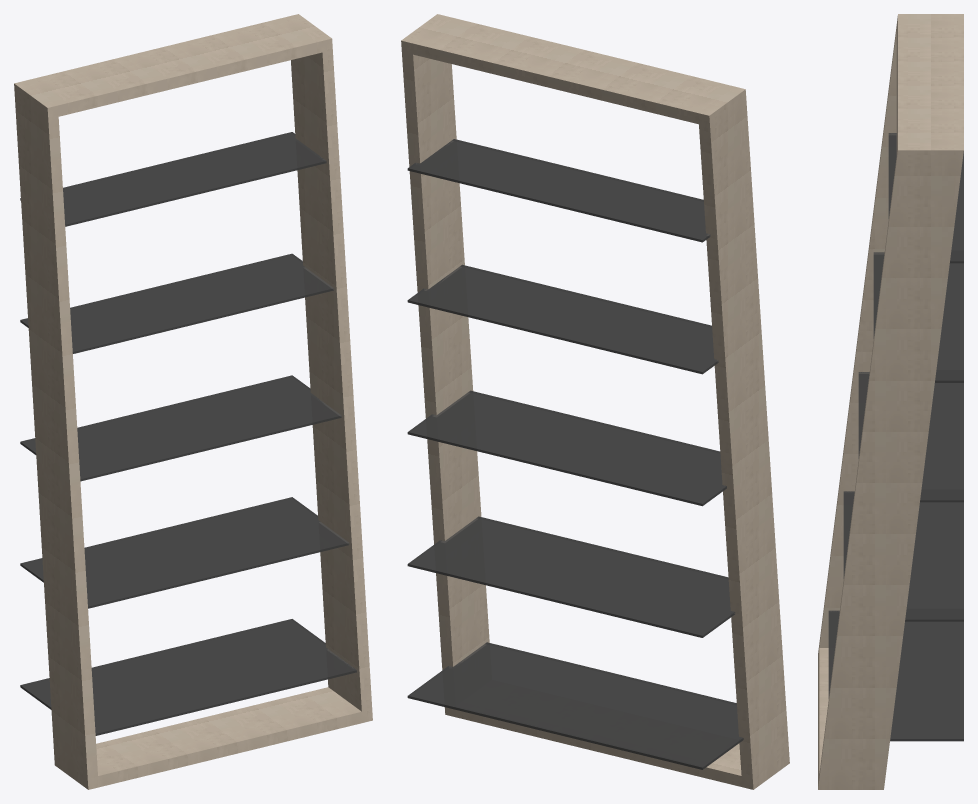
The model's file is cabinet.obj.
The picture shows the model from 3 angles, left to right: view 1: azimuth 30°, elevation 25°; view 2: azimuth 150°, elevation 25°; view 3: azimuth 270°, elevation 25°; orthographic projection. The views are drawn at different scales.
Parts seen in each view (by area): view 1: Mesh1 frame1 Eileen_Shelf_by_Smart_Furniture1 Model, Mesh6 shelf5_1 Eileen_Shelf_by_Smart_Furniture1 Model, Mesh5 shelf4_1 Eileen_Shelf_by_Smart_Furniture1 Model, Mesh4 shelf3_1 Eileen_Shelf_by_Smart_Furniture1 Model, Mesh3 shelf2_1 Eileen_Shelf_by_Smart_Furniture1 Model, Mesh2 shelf1_1 Eileen_Shelf_by_Smart_Furniture1 Model; view 2: Mesh1 frame1 Eileen_Shelf_by_Smart_Furniture1 Model, Mesh6 shelf5_1 Eileen_Shelf_by_Smart_Furniture1 Model, Mesh5 shelf4_1 Eileen_Shelf_by_Smart_Furniture1 Model, Mesh4 shelf3_1 Eileen_Shelf_by_Smart_Furniture1 Model, Mesh3 shelf2_1 Eileen_Shelf_by_Smart_Furniture1 Model, Mesh2 shelf1_1 Eileen_Shelf_by_Smart_Furniture1 Model; view 3: Mesh1 frame1 Eileen_Shelf_by_Smart_Furniture1 Model, Mesh6 shelf5_1 Eileen_Shelf_by_Smart_Furniture1 Model, Mesh5 shelf4_1 Eileen_Shelf_by_Smart_Furniture1 Model, Mesh4 shelf3_1 Eileen_Shelf_by_Smart_Furniture1 Model, Mesh3 shelf2_1 Eileen_Shelf_by_Smart_Furniture1 Model, Mesh2 shelf1_1 Eileen_Shelf_by_Smart_Furniture1 Model.
Boxes of the visible parts, box(x1,y1,x2,y2) form: Mesh1 frame1 Eileen_Shelf_by_Smart_Furniture1 Model: box(14, 14, 372, 789); Mesh6 shelf5_1 Eileen_Shelf_by_Smart_Furniture1 Model: box(20, 619, 356, 735); Mesh5 shelf4_1 Eileen_Shelf_by_Smart_Furniture1 Model: box(20, 497, 349, 608); Mesh4 shelf3_1 Eileen_Shelf_by_Smart_Furniture1 Model: box(20, 375, 341, 481); Mesh3 shelf2_1 Eileen_Shelf_by_Smart_Furniture1 Model: box(20, 253, 334, 353); Mesh2 shelf1_1 Eileen_Shelf_by_Smart_Furniture1 Model: box(20, 132, 326, 226); Mesh1 frame1 Eileen_Shelf_by_Smart_Furniture1 Model: box(401, 14, 789, 789); Mesh6 shelf5_1 Eileen_Shelf_by_Smart_Furniture1 Model: box(407, 642, 743, 769); Mesh5 shelf4_1 Eileen_Shelf_by_Smart_Furniture1 Model: box(407, 516, 735, 637); Mesh4 shelf3_1 Eileen_Shelf_by_Smart_Furniture1 Model: box(407, 390, 726, 506); Mesh3 shelf2_1 Eileen_Shelf_by_Smart_Furniture1 Model: box(407, 264, 718, 374); Mesh2 shelf1_1 Eileen_Shelf_by_Smart_Furniture1 Model: box(407, 139, 710, 242); Mesh1 frame1 Eileen_Shelf_by_Smart_Furniture1 Model: box(818, 14, 963, 789); Mesh6 shelf5_1 Eileen_Shelf_by_Smart_Furniture1 Model: box(828, 610, 963, 741); Mesh5 shelf4_1 Eileen_Shelf_by_Smart_Furniture1 Model: box(843, 491, 963, 621); Mesh4 shelf3_1 Eileen_Shelf_by_Smart_Furniture1 Model: box(858, 372, 963, 502); Mesh3 shelf2_1 Eileen_Shelf_by_Smart_Furniture1 Model: box(873, 252, 963, 382); Mesh2 shelf1_1 Eileen_Shelf_by_Smart_Furniture1 Model: box(888, 133, 963, 263).
Bounding box in the file's own units: 34.25 × 75 × 15.5.
